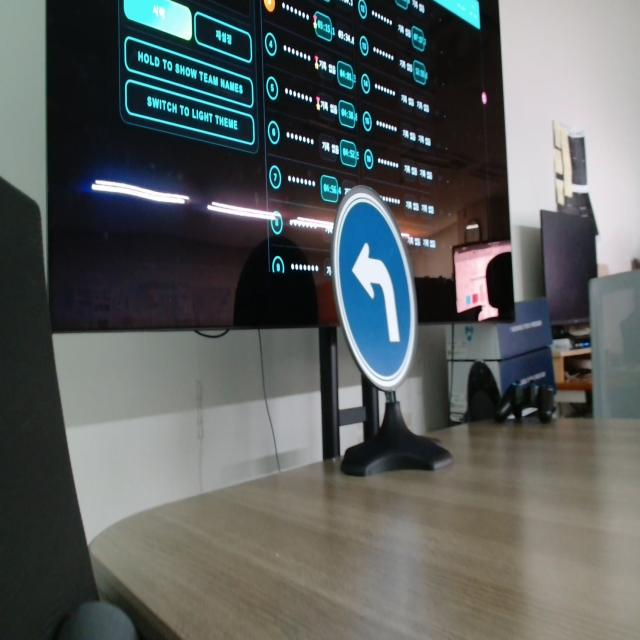left_direction: (331, 182, 449, 406)
